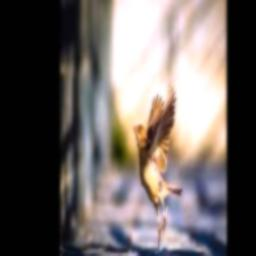Sparrow: (133, 82, 182, 253)
